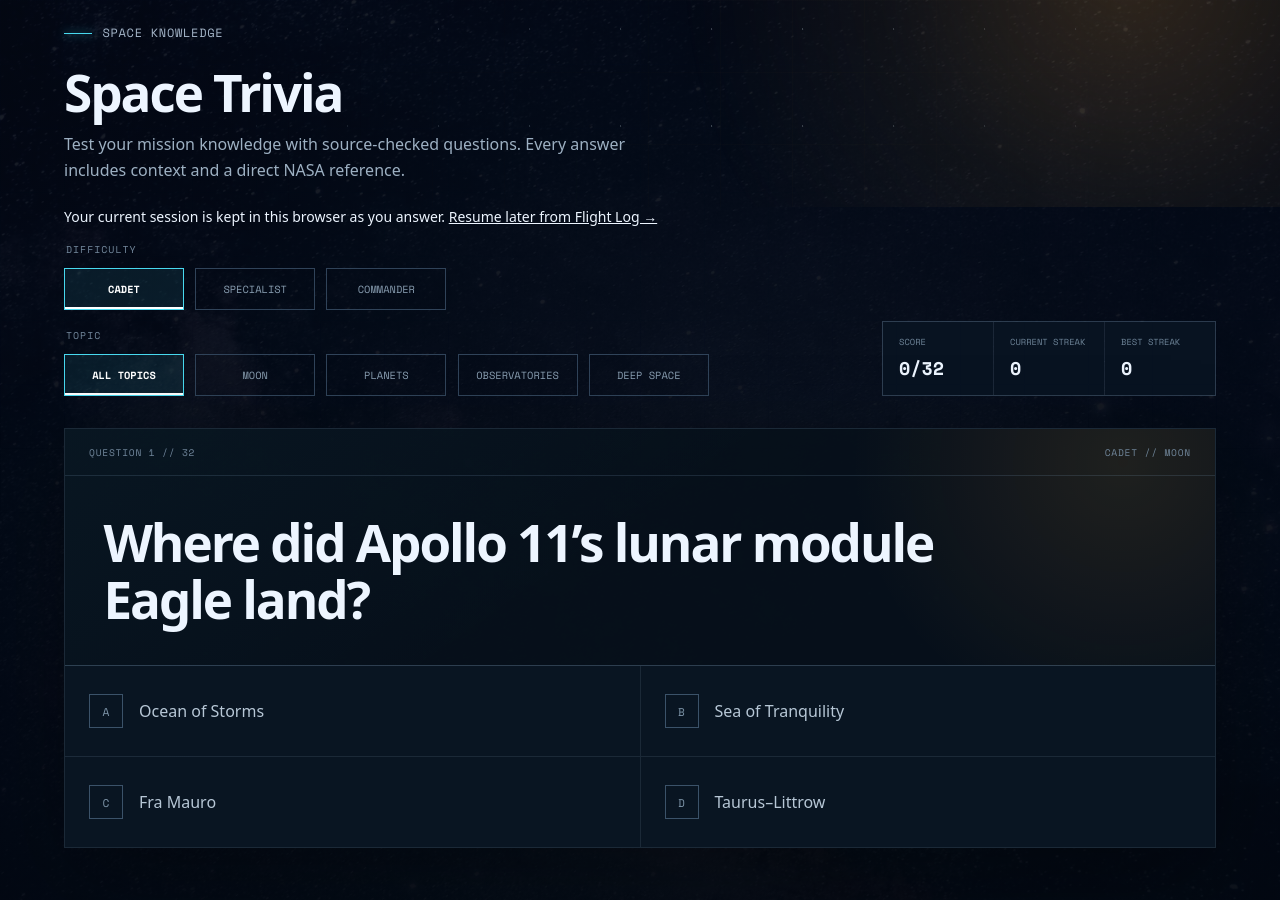
Test: TriviaPage › reveals the correction after an incorrect answer
This screenshot has width=1280, height=900.
Step 1. Click the button "A Ocean of Storms" → coordinates (106, 711), box [65, 666, 640, 756]
(page scrolled)
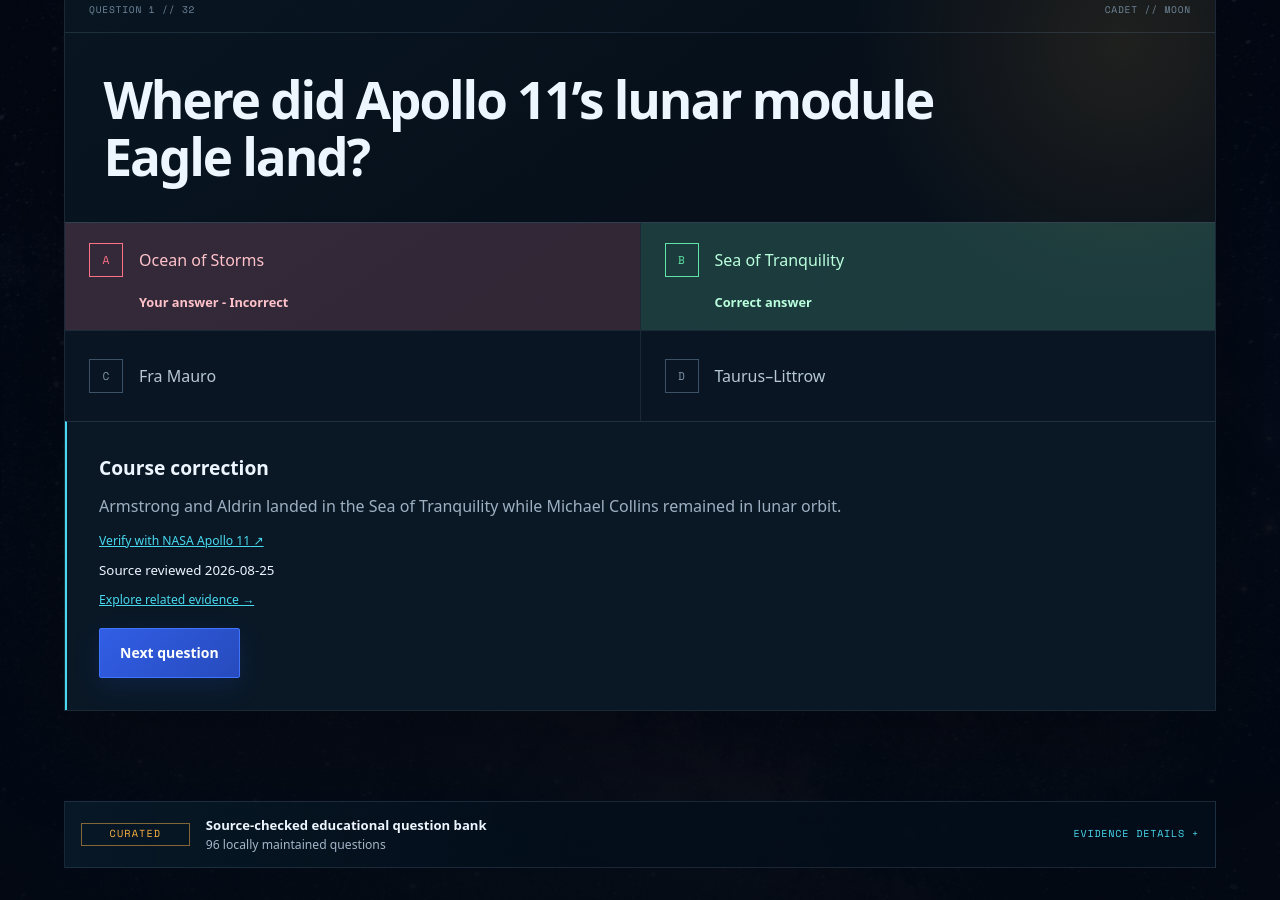
expect the text "Course correction" is shown: met, box [99, 454, 269, 481]
expect the text "Your answer - Incorrect" is shown: met, box [139, 293, 288, 311]
expect the text "Correct answer" is shown: met, box [714, 293, 812, 311]
